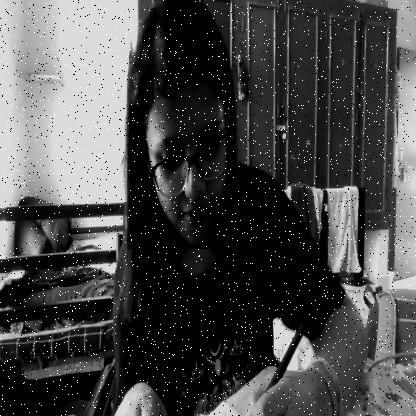Normal: (127, 0, 230, 249)
